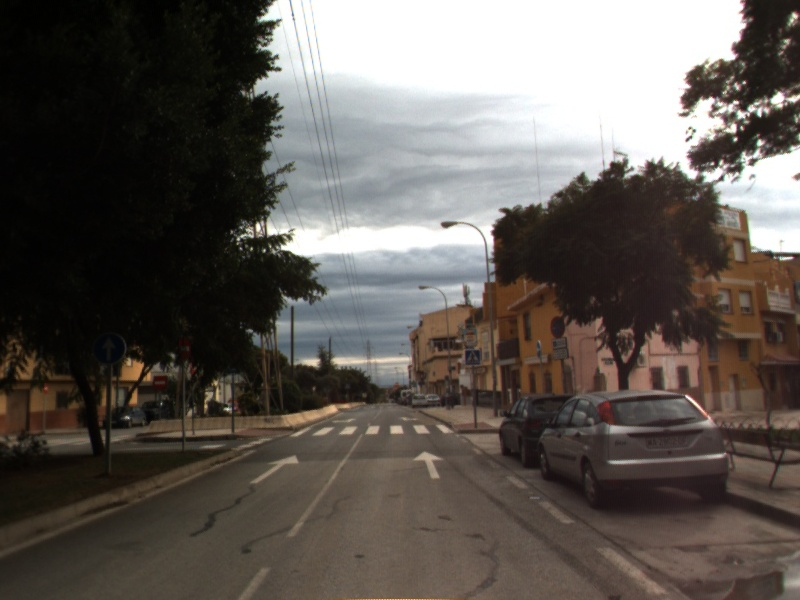STRAIGHT: (247, 453, 301, 485), (410, 448, 446, 480)
STRAIGHT_LEFT: (330, 416, 358, 425)
STRAIGHT_RIGHT: (396, 415, 422, 423)
